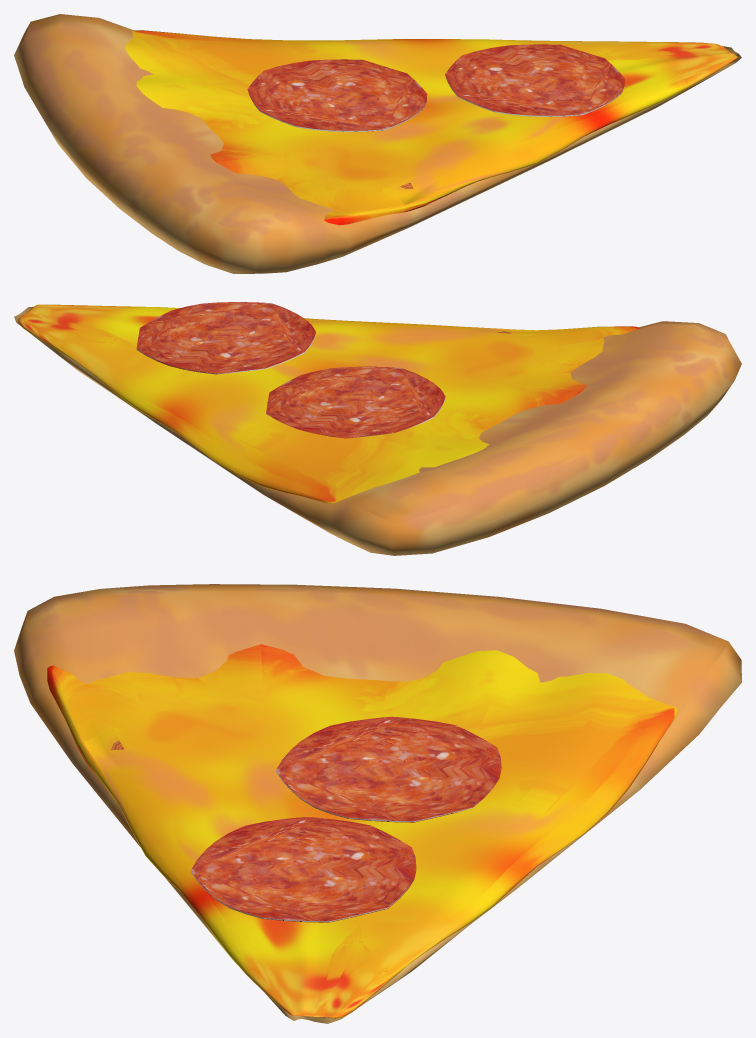
File: Pizza.fbx
3 renders of one model, top to bottom at view 1: azimuth 30°, elevation 25°; view 2: azimuth 150°, elevation 25°; view 3: azimuth 270°, elevation 25°, orthographic. The views are drawn at different scales.
Parts seen in each view (by area): view 1: ost, pizza, pepperoni.003, pepperoni; view 2: ost, pizza, pepperoni.003, pepperoni; view 3: ost, pizza, pepperoni.003, pepperoni.
Part boxes in pixels (bbox=[...]): ost: bbox=[125, 30, 737, 225]; pizza: bbox=[14, 14, 741, 273]; pepperoni.003: bbox=[445, 44, 624, 116]; pepperoni: bbox=[247, 59, 427, 131]; ost: bbox=[18, 304, 639, 503]; pizza: bbox=[14, 307, 741, 555]; pepperoni.003: bbox=[136, 302, 316, 374]; pepperoni: bbox=[266, 366, 445, 438]; ost: bbox=[47, 644, 678, 1018]; pizza: bbox=[14, 584, 741, 1023]; pepperoni.003: bbox=[190, 817, 416, 922]; pepperoni: bbox=[276, 716, 501, 822].
Size of the model in its own units: 134 by 12.93 by 106.
